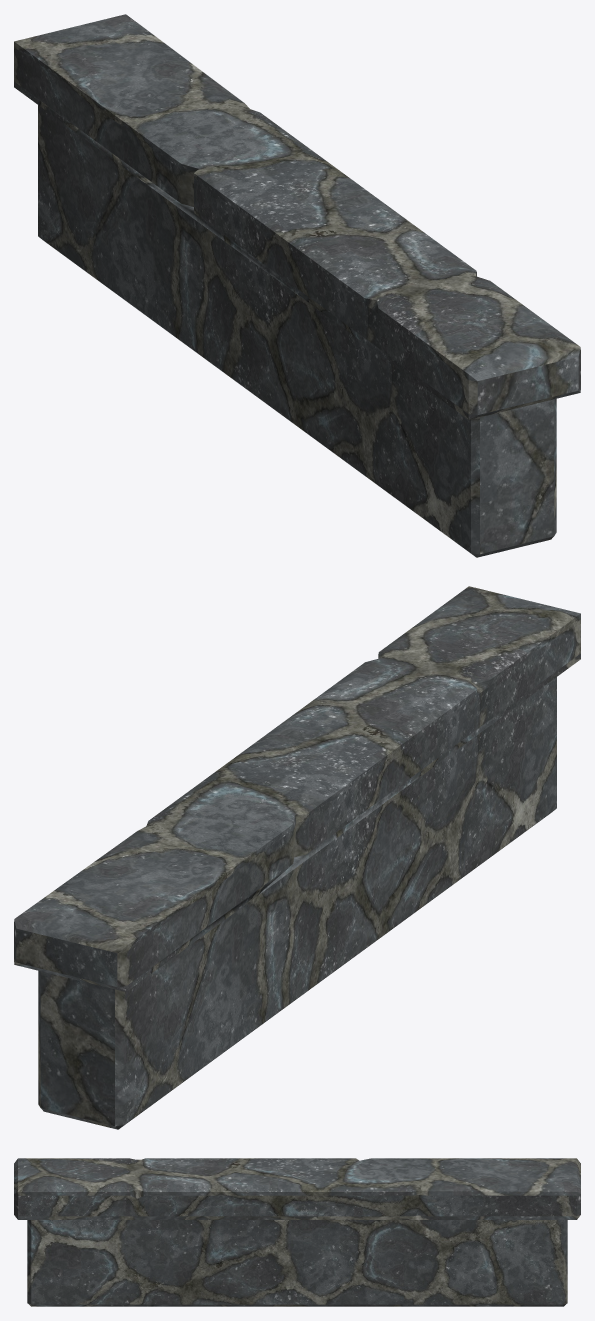
The model's file is Stone_wall.fbx.
3 views of the same model, one above another, from view 1: azimuth 30°, elevation 25°; view 2: azimuth 150°, elevation 25°; view 3: azimuth 270°, elevation 25° (orthographic). The views are drawn at different scales.
Visible parts, largest first — view 1: pCube1; view 2: pCube1; view 3: pCube1.
Part boxes in pixels (x1,y1,x2,y2): pCube1: [14, 14, 580, 557]; pCube1: [14, 586, 580, 1129]; pCube1: [14, 1158, 580, 1306].
Size of the model in its own units: 1.79 by 3.08 by 12.75.
1 material, 1 textured.
